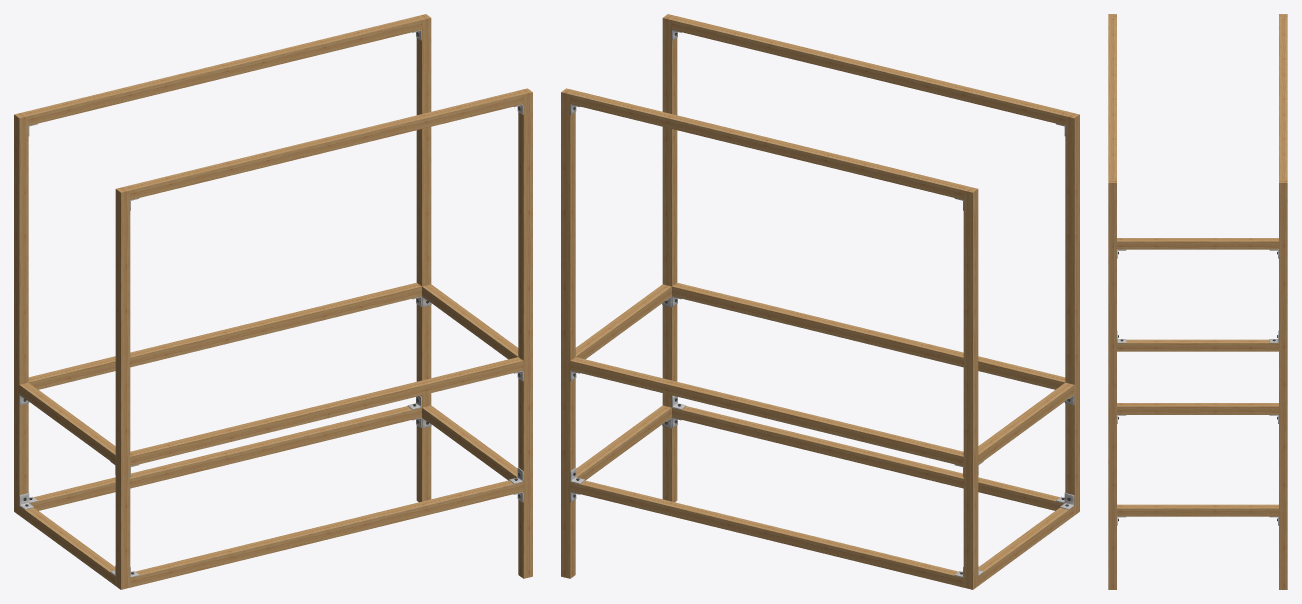
The picture shows the model from 3 angles, left to right: view 1: azimuth 30°, elevation 25°; view 2: azimuth 150°, elevation 25°; view 3: azimuth 270°, elevation 25°; orthographic projection. The views are drawn at different scales.
Visible parts, largest first — view 1: Куб.336, Куб.340, Куб.339, Куб.406, Куб.405, Куб.337, Куб.338, Куб.399, Куб.400, Куб.401, Куб.403, Куб.335 (+2 smaller); view 2: Куб.340, Куб.336, Куб.401, Куб.405, Куб.406, Куб.399, Куб.400, Куб.337, Куб.338, Куб.339, Куб.403, Куб.335 (+2 smaller); view 3: Куб.336, Куб.340, Куб.402, Куб.404, Куб.335, Куб.403, Куб.405, Куб.406.
Part boxes in pixels (x1,y1,x2,y2): Куб.336: (518,88,532,578); Куб.340: (416,14,431,502); Куб.339: (115,186,130,589); Куб.406: (23,16,421,125); Куб.405: (125,90,523,199); Куб.337: (130,357,523,466); Куб.338: (130,480,523,587); Куб.399: (28,282,421,389); Куб.400: (29,406,421,510); Куб.401: (14,112,28,514); Куб.403: (19,382,115,464); Куб.335: (422,284,518,359); Куб.340: (561,88,575,578); Куб.336: (662,14,677,502); Куб.401: (963,186,978,589); Куб.405: (672,16,1070,125); Куб.406: (570,90,968,199); Куб.399: (570,357,963,466); Куб.400: (570,480,963,587); Куб.337: (672,282,1065,389); Куб.338: (672,406,1064,510); Куб.339: (1065,112,1079,514); Куб.403: (978,382,1074,464); Куб.335: (575,284,671,359); Куб.336: (1108,179,1116,589); Куб.340: (1279,179,1287,589); Куб.402: (1117,504,1278,516); Куб.404: (1117,339,1278,351); Куб.335: (1117,403,1278,414); Куб.403: (1117,238,1278,249); Куб.405: (1108,17,1116,178); Куб.406: (1279,17,1287,178).
Size of the model in its own units: 1.78 by 2 by 0.8.
